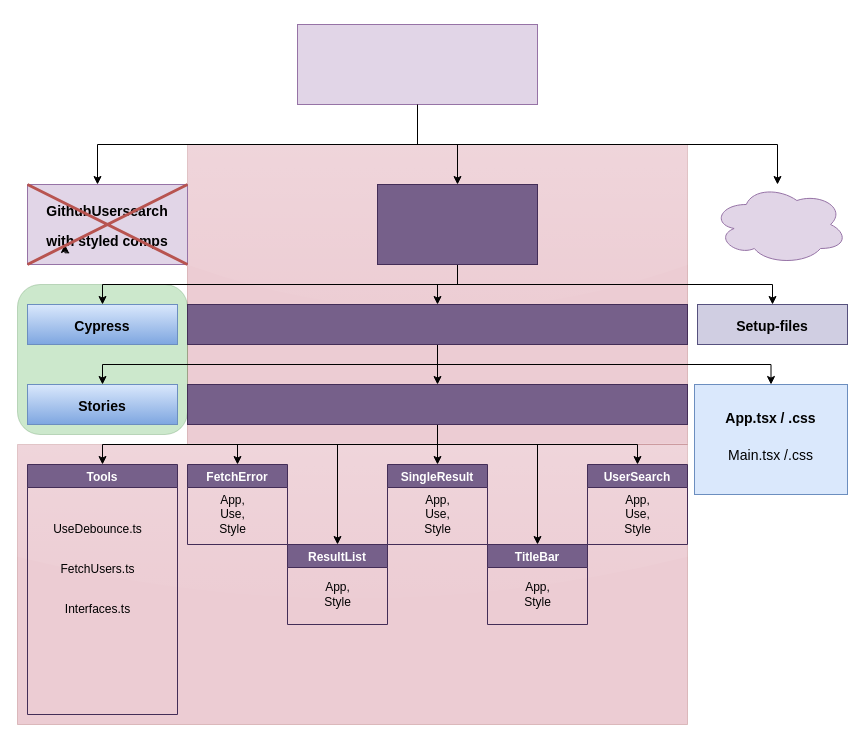
Some shapes in this 865 by 742 pixel diagram are drawn without their labels. The shapes that lost their labels are listed below. From the top down, each one's centre as x and y in pixels, then its label:
point (417, 64): Root folder (Github repository)
point (457, 224): GithubUsersearch with CSS
point (780, 224): README
point (437, 324): SRC
point (437, 404): Components
